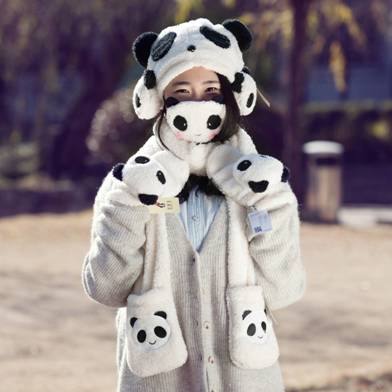face_mask: (165, 63, 229, 138)
